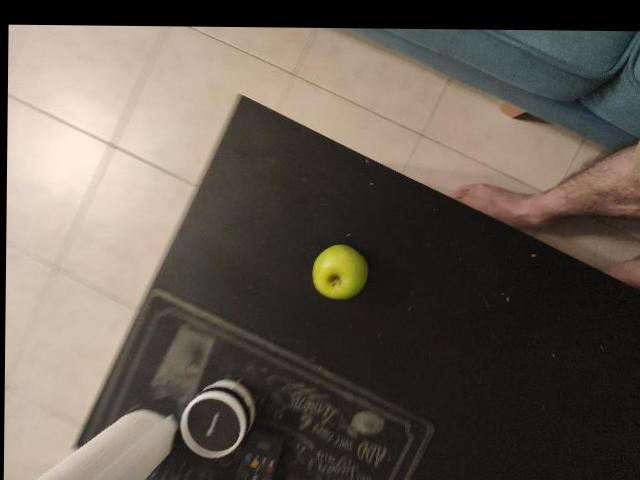apple: (215, 122, 300, 205)
